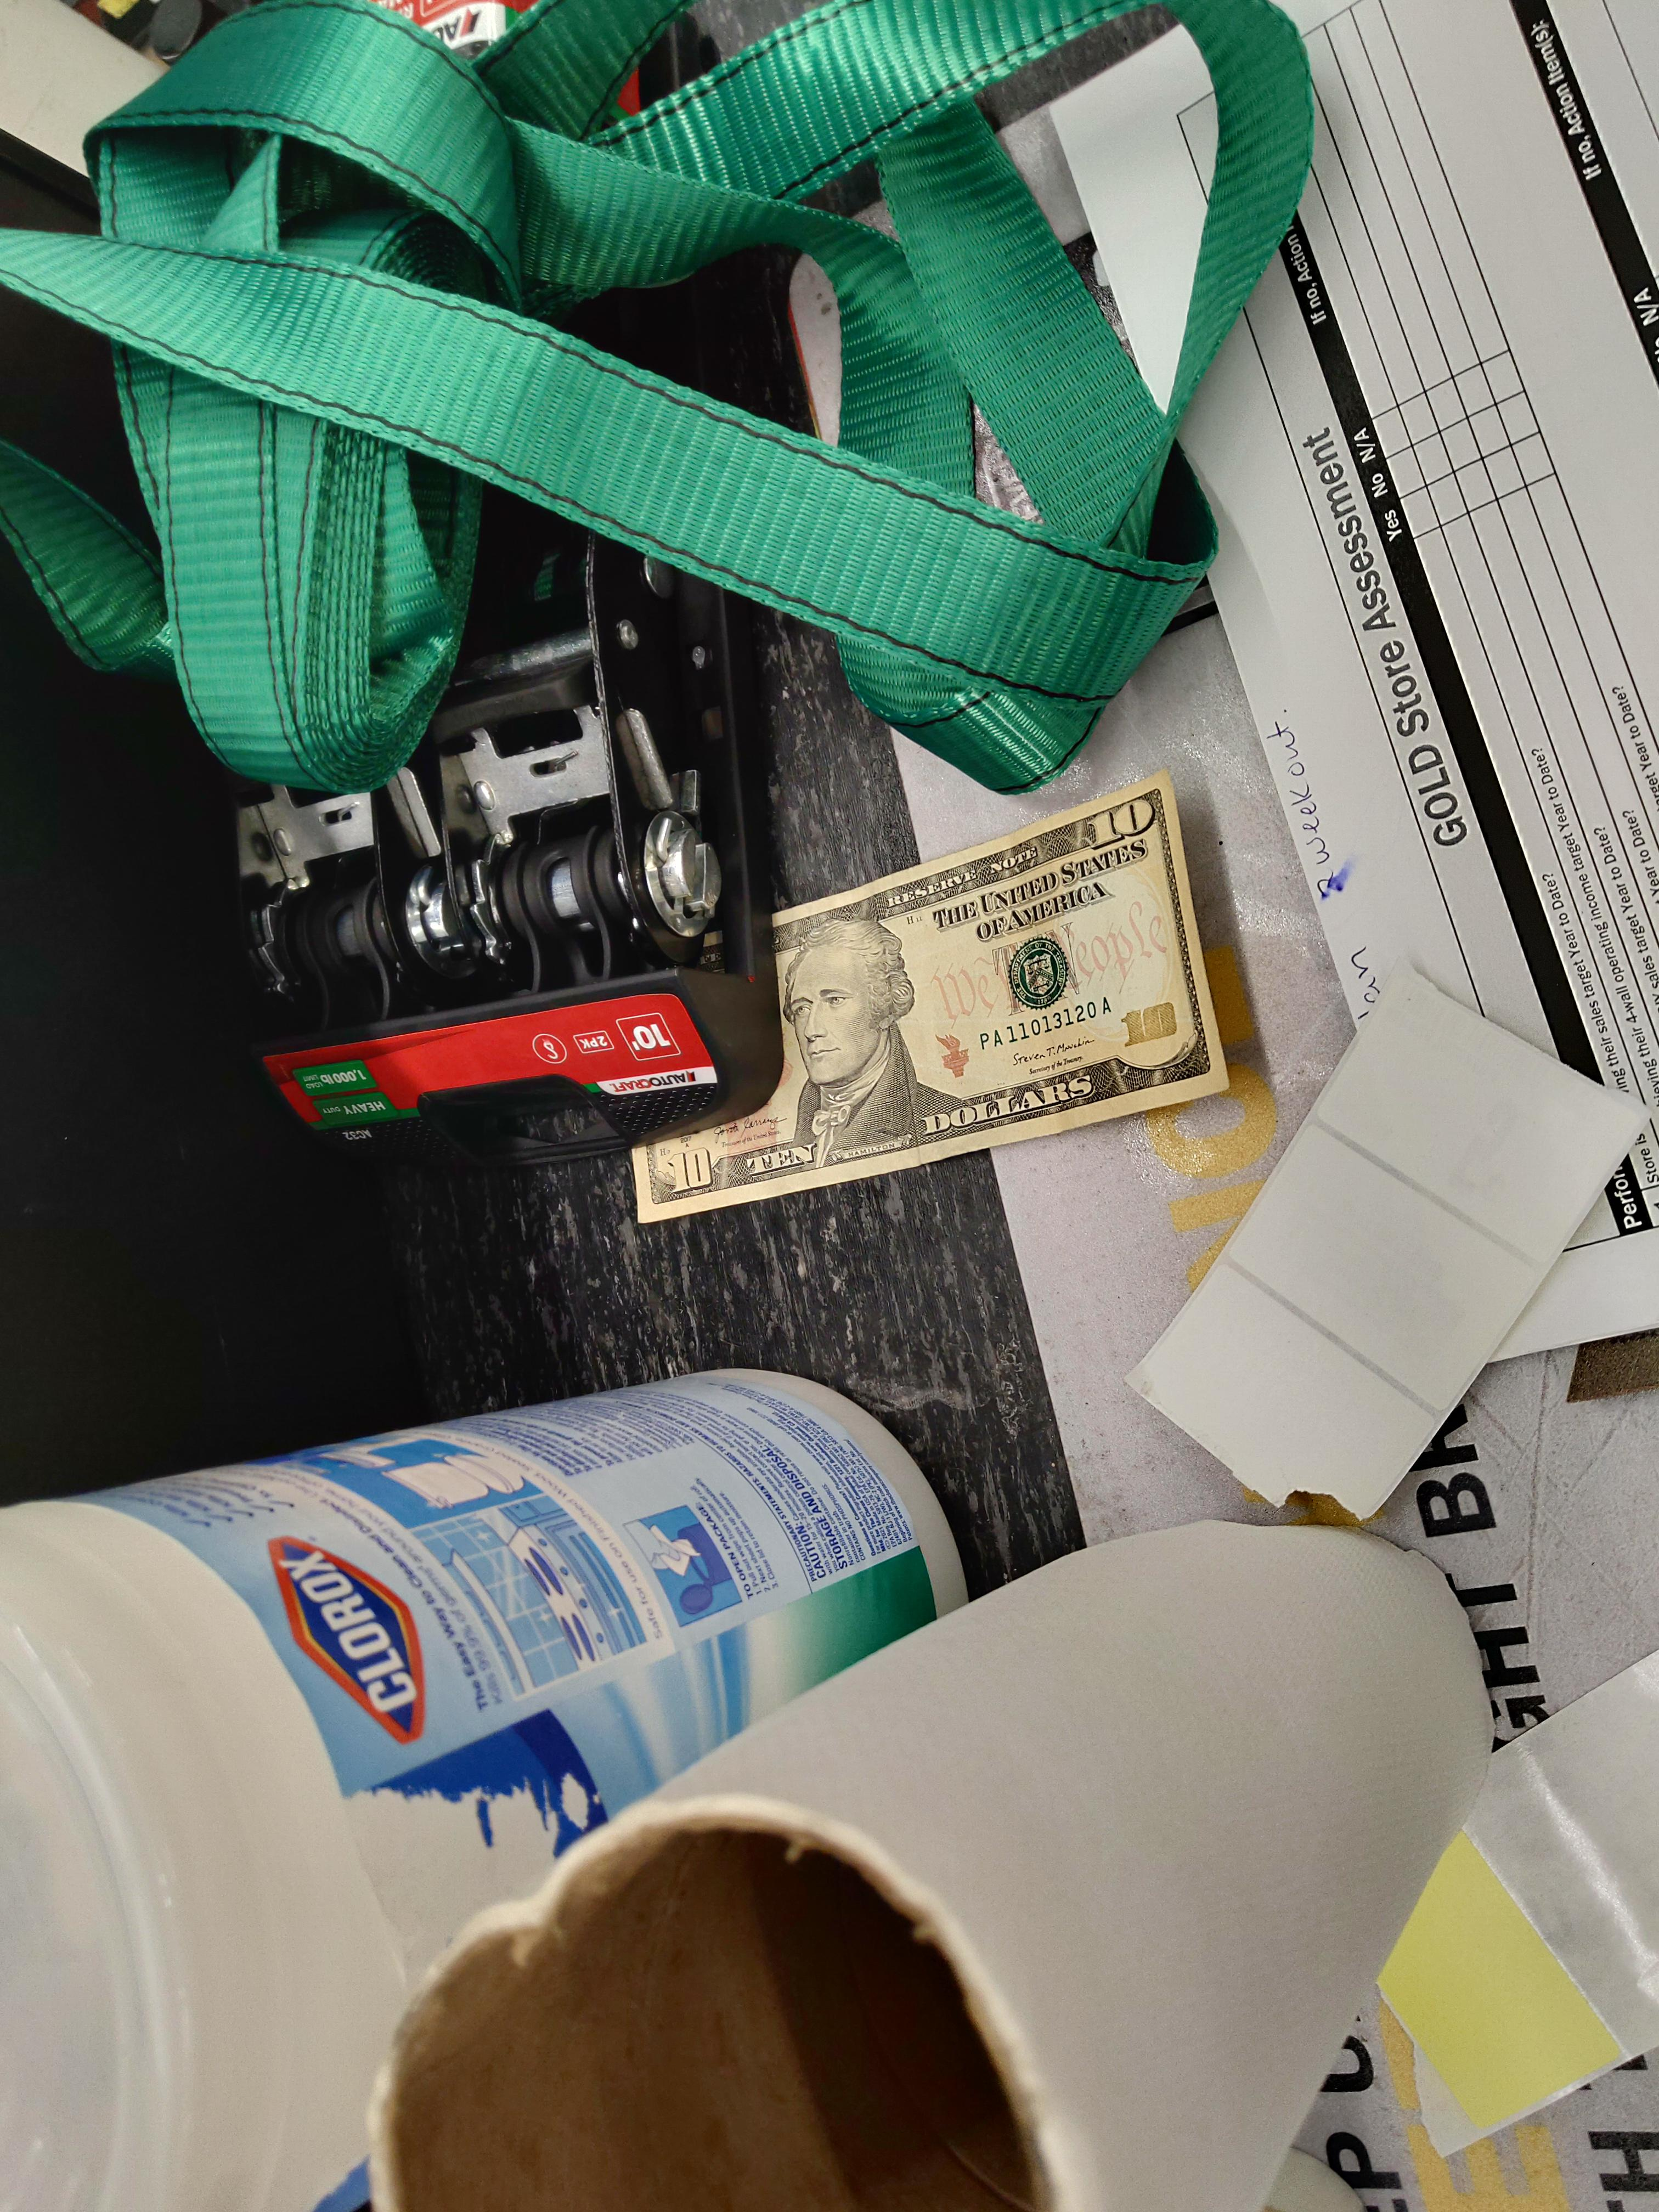TenBill: (633, 768, 1232, 1224)
